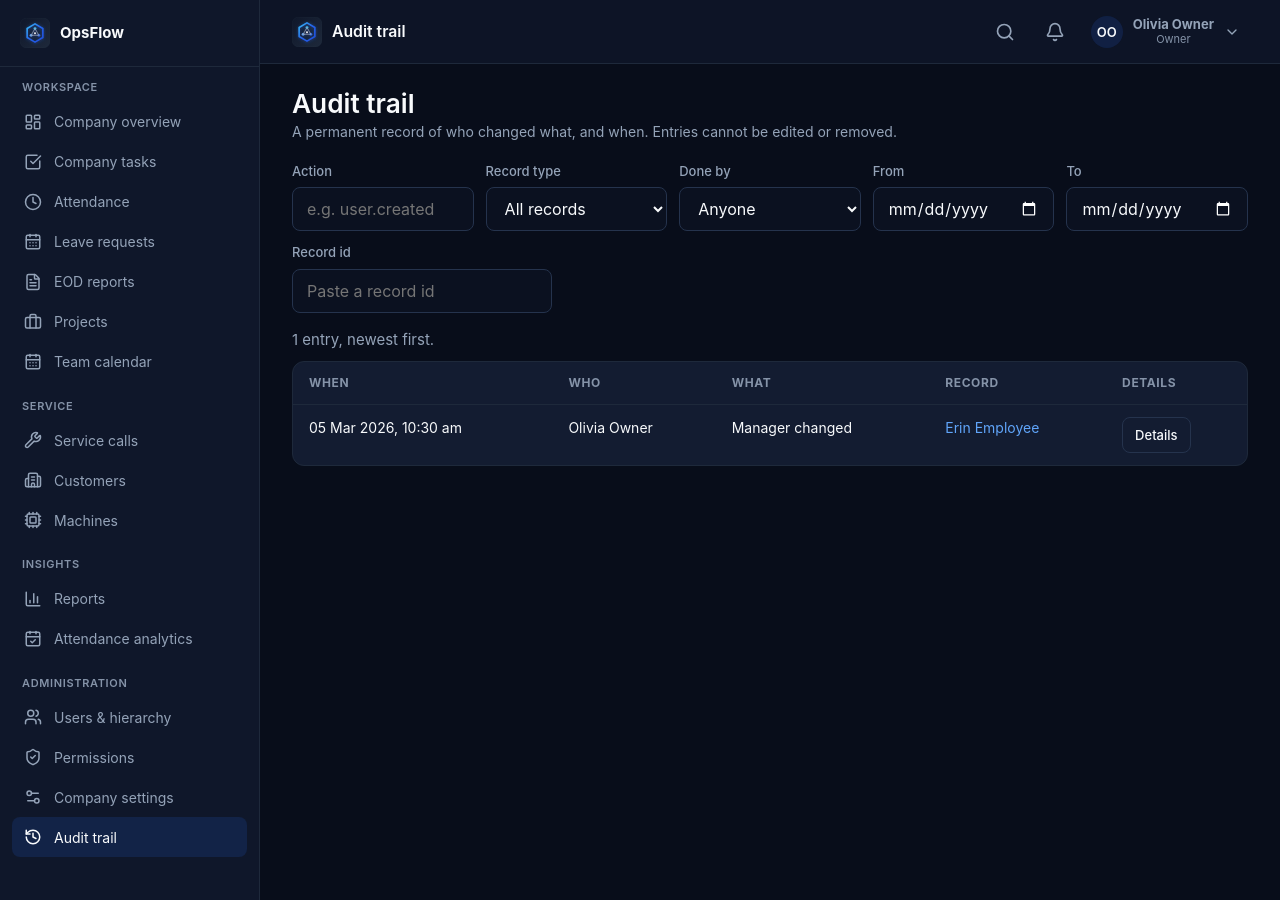
Scenario: Audit trail › shows what changed, with people named instead of ids
This screenshot has width=1280, height=900.
Step 1. Click the button with aria-label "Show details: Manager changed" → [1156, 435], box x1=1122 y1=417 x2=1191 y2=453
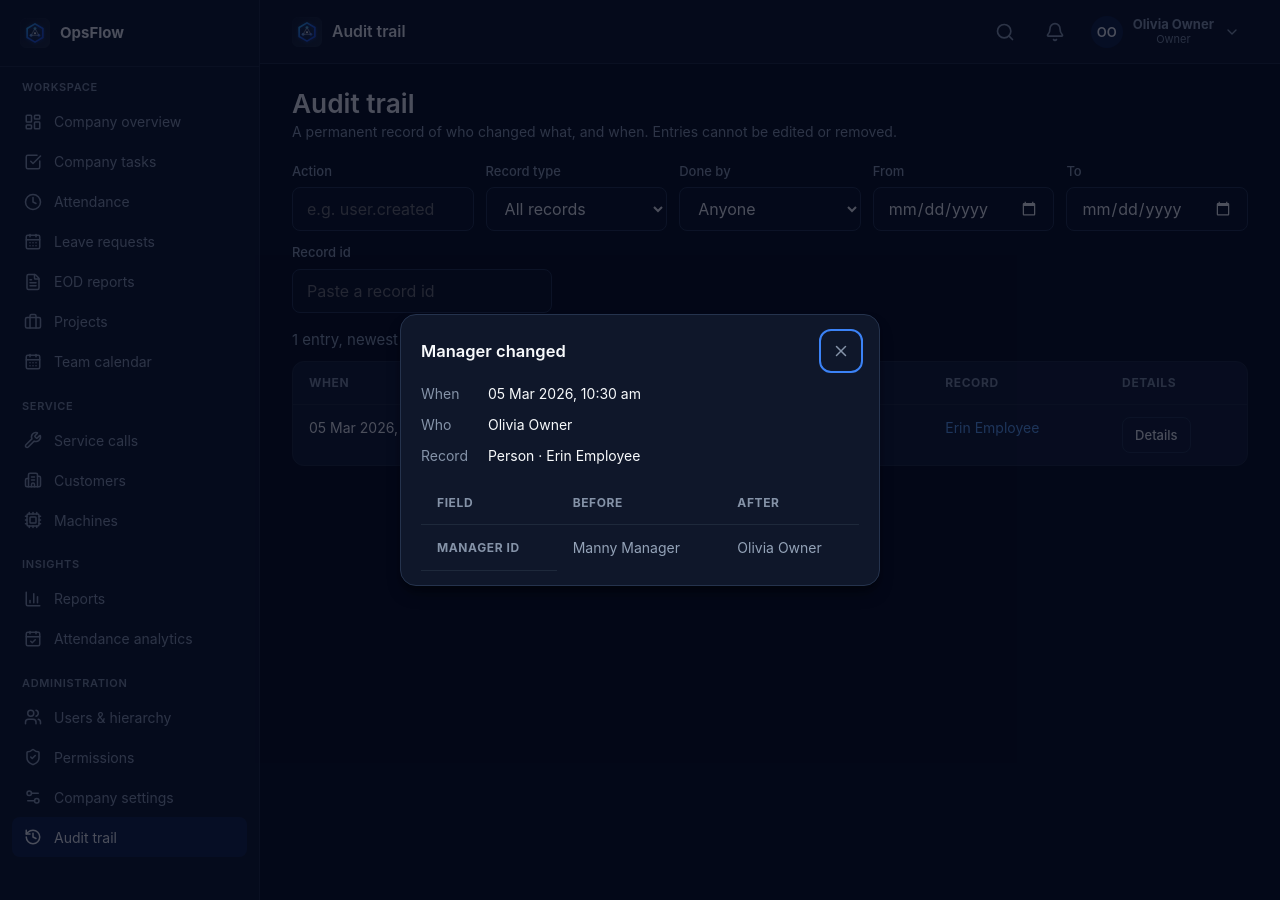
expect the column heading "Before" is shown: met, box x1=557 y1=482 x2=721 y2=525
expect the text "Manny Manager" is shown: met, box x1=557 y1=525 x2=721 y2=570
expect the text "Olivia Owner" is shown: met, box x1=721 y1=525 x2=859 y2=570
